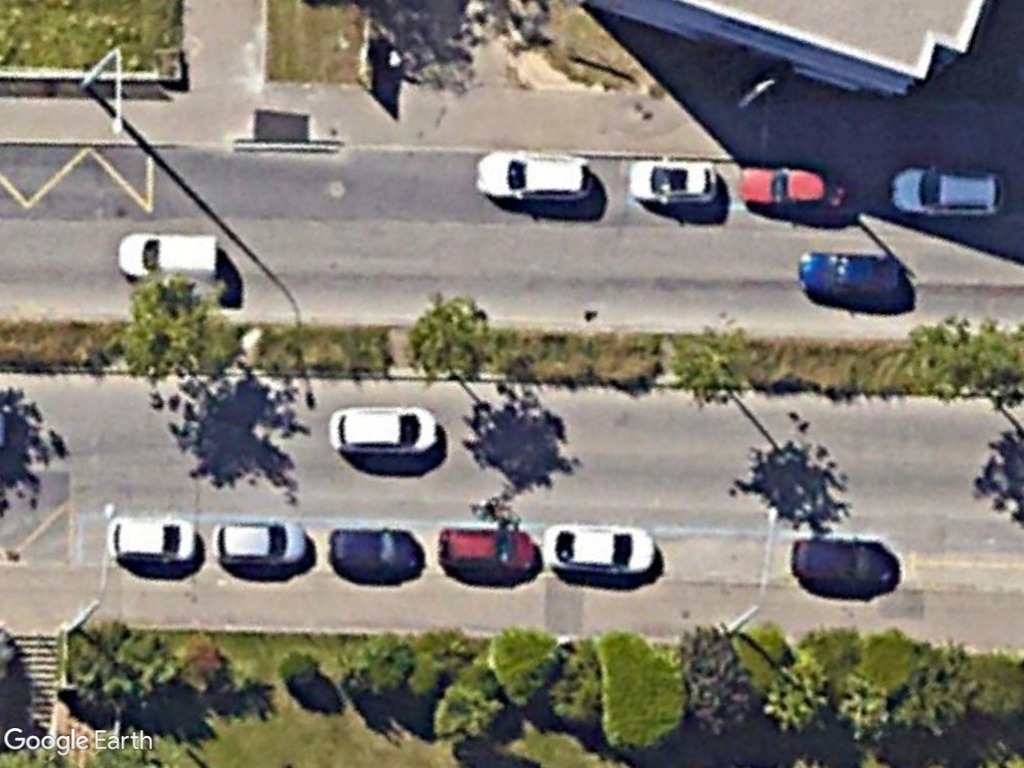car: (472, 148, 598, 207), (541, 521, 661, 580), (886, 163, 1010, 219), (737, 160, 855, 216), (327, 402, 437, 457), (434, 524, 541, 579), (622, 156, 724, 209), (210, 518, 312, 570), (105, 516, 198, 566)
van: (115, 231, 222, 283)
